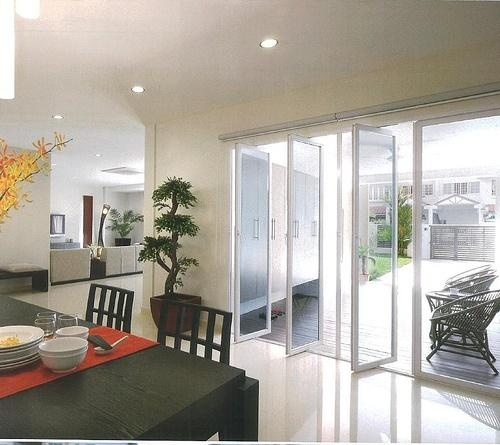chair: (426, 289, 500, 375), (156, 294, 234, 361), (86, 281, 135, 335), (446, 270, 499, 292), (447, 264, 494, 287), (446, 275, 498, 294)
diningtable: (1, 284, 261, 445)
pottedplant: (138, 175, 205, 332), (110, 207, 143, 247), (359, 241, 378, 285)
tvmonitor: (50, 213, 68, 240)
